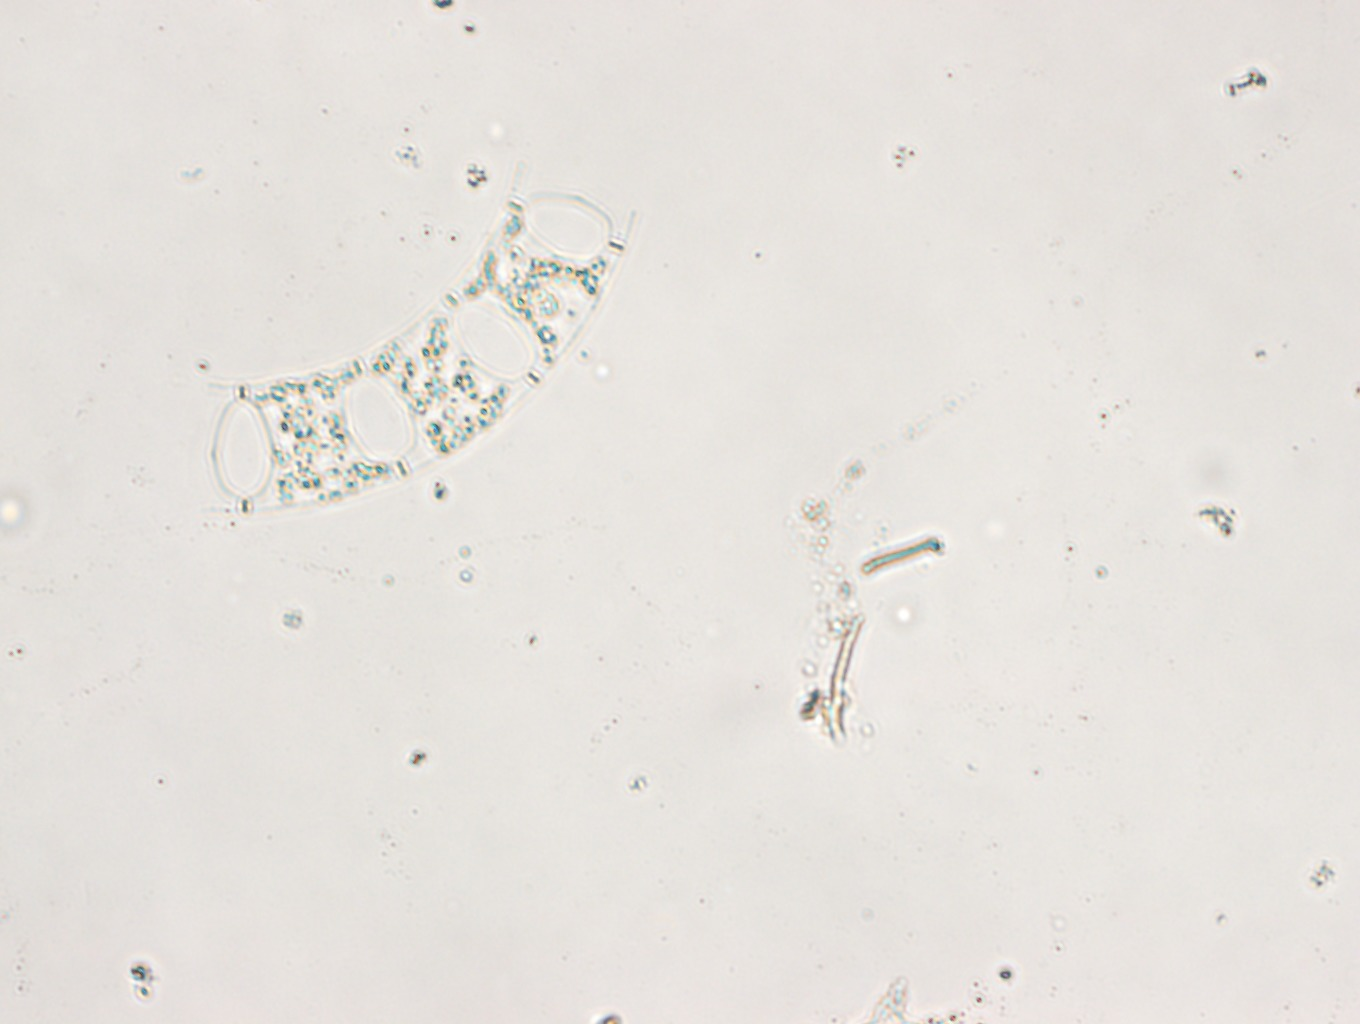eucampia: (186, 143, 639, 514)
